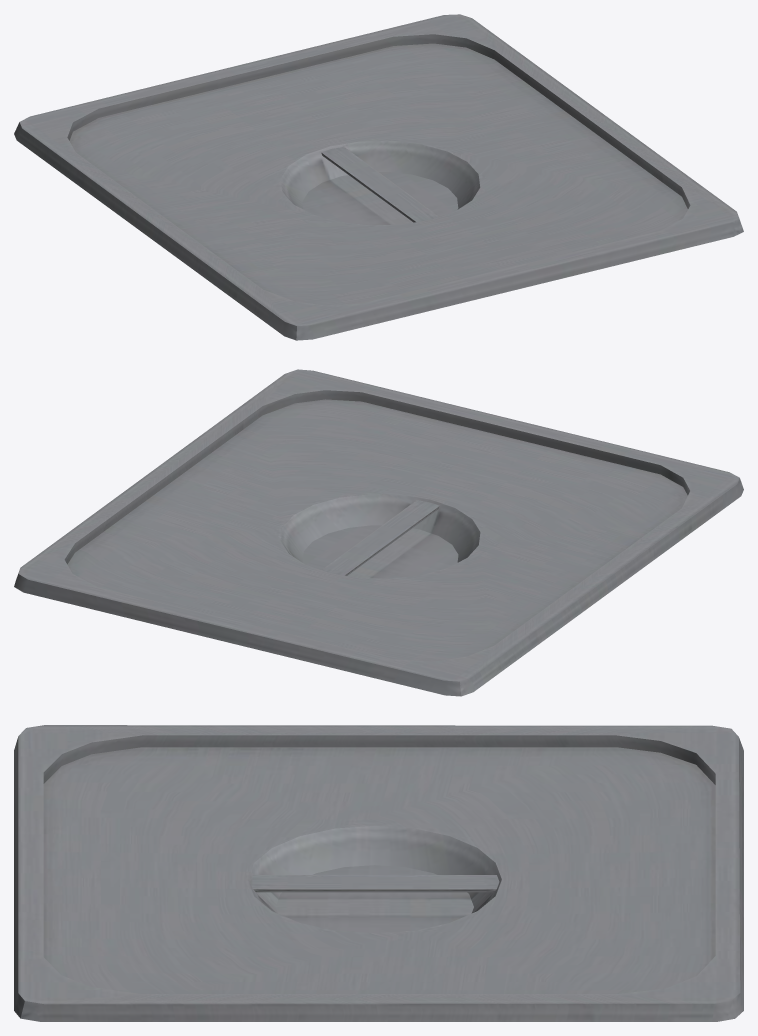
File: SM_Hotel_Pan_2_3_Lid_01.glb
3 views of the same model, one above another, from view 1: azimuth 30°, elevation 25°; view 2: azimuth 150°, elevation 25°; view 3: azimuth 270°, elevation 25° (orthographic). The views are drawn at different scales.
Visible parts, largest first — view 1: SM_Hotel_Pan_2_3_Lid_01; view 2: SM_Hotel_Pan_2_3_Lid_01; view 3: SM_Hotel_Pan_2_3_Lid_01.
Part boxes in pixels (left/top/right/bottom): SM_Hotel_Pan_2_3_Lid_01: left=14, top=14, right=743, bottom=340; SM_Hotel_Pan_2_3_Lid_01: left=14, top=369, right=743, bottom=696; SM_Hotel_Pan_2_3_Lid_01: left=14, top=725, right=743, bottom=1021.
Bounding box in the file's own units: 0.33 × 0.0255 × 0.3605.
1 material, 1 textured.
